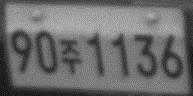0: (36, 29, 58, 75)
1: (85, 30, 105, 76), (110, 32, 130, 77)
3: (133, 33, 157, 78)
6: (160, 34, 183, 79)
9: (10, 29, 33, 73)
주: (57, 37, 83, 76)
